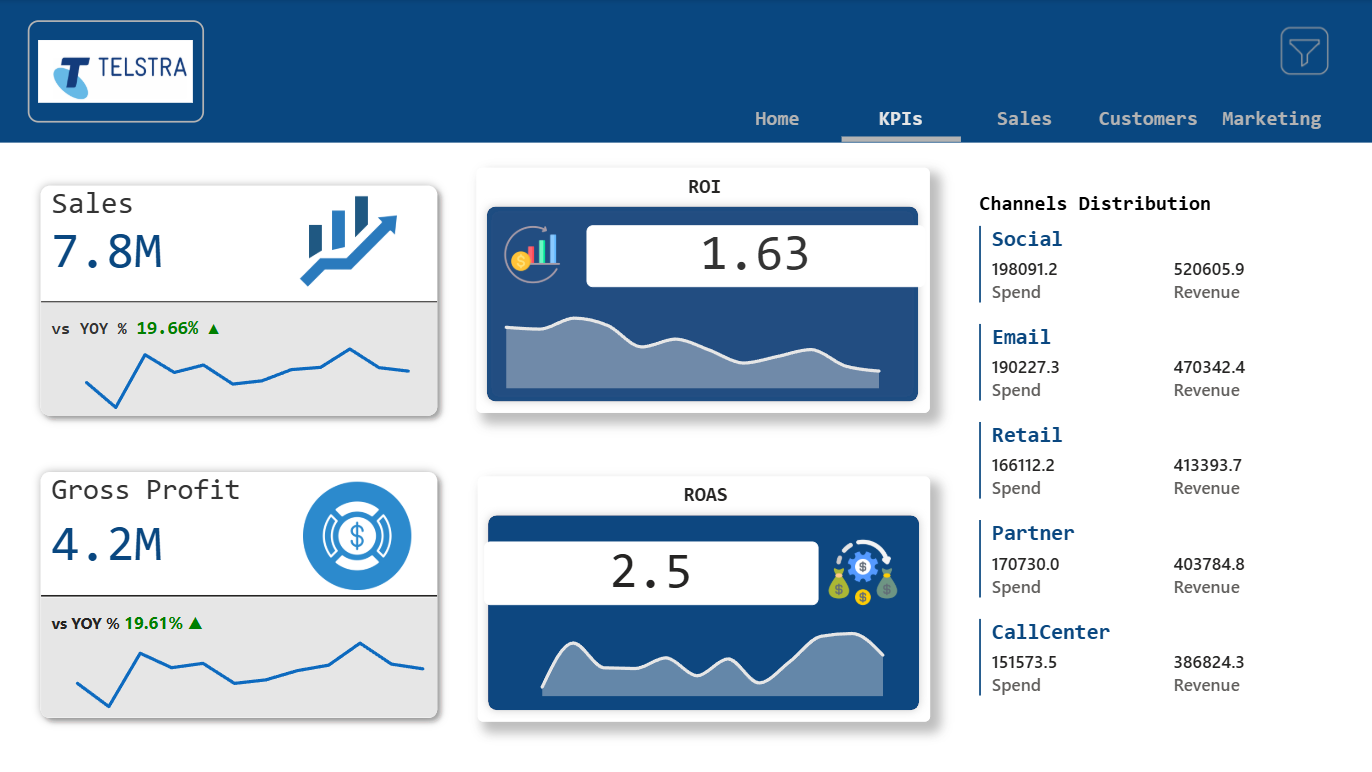

This screenshot's page, from the dashboard's own definition file:
{"tool":"powerbi","page":{"name":"KPIs","canvas":[1280,720],"ordinal":1},"visuals":[{"type":"shape","box":[-2,0,1282.4,133.9],"z":0,"group":"g8"},{"type":"group","id":"g1","title":"Group 2","box":[444.9,156.8,421.3,228],"z":0,"group":"g6"},{"type":"group","id":"g2","title":"Group 3","box":[444.9,156.8,421.3,228],"z":0,"group":"g1"},{"type":"shape","title":"ROI","box":[444.9,156.8,421.3,228],"z":0,"group":"g2"},{"type":"group","id":"g3","title":"Group 5","box":[26.5,161.7,393.3,238.9],"z":0,"group":"g11"},{"type":"cardVisual","fields":{"Data":["Meaasurments.Sales"]},"box":[26.5,161.7,393.3,238.9],"z":0,"group":"g3"},{"type":"multiRowCard","title":"Channels Distribution","fields":{"Values":["Fact_Marketing_final.channel","Sum(Fact_Marketing_final.spend_usd)","Sum(Fact_Marketing_final.marketing_attributed_revenue)"]},"box":[907.2,178.6,359.5,500.7],"z":0},{"type":"cardVisual","fields":{"Data":["Meaasurments.Profit"]},"box":[26.5,428.3,393.3,253.4],"z":0,"group":"g7"},{"type":"group","id":"g4","title":"Group 2","box":[445.2,444,421,228],"z":0,"group":"g9"},{"type":"group","id":"g5","title":"Group 3","box":[445.2,444,421,228],"z":0,"group":"g4"},{"type":"shape","title":"ROAS","box":[445.2,444,421,228],"z":0,"group":"g5"},{"type":"pageNavigator","box":[669.2,84.6,573.3,49],"z":1000,"group":"g8"},{"type":"group","id":"g6","title":"Group 4","box":[430.7,156.8,435.5,228],"z":1000},{"type":"card","fields":{"Values":["Meaasurments.ROI"]},"box":[547.6,210.1,314.9,57.9],"z":1000,"group":"g2"},{"type":"lineChart","fields":{"Category":["Dim_Date_final.month"],"Y":["Meaasurments.ROI"]},"box":[430.7,276,403.4,90.6],"z":1000,"group":"g6"},{"type":"lineChart","fields":{"Y":["Meaasurments.Sales"],"Category":["Dim_Date_final.month","Dim_Date_final.year"]},"box":[44,305.4,346.6,77.9],"z":1000,"group":"g3"},{"type":"group","id":"g7","title":"Group 5","box":[26.5,428.3,393.3,253.4],"z":1000,"group":"g12"},{"type":"card","fields":{"Values":["Meaasurments.ROAS"]},"box":[450.5,504.6,311.3,59.1],"z":1000,"group":"g5"},{"type":"lineChart","fields":{"Category":["Dim_Date_final.month"],"Y":["Meaasurments.ROAS"]},"box":[461.8,568.5,375.8,85.1],"z":1000,"group":"g9"},{"type":"lineChart","fields":{"Category":["Dim_Date_final.month","Dim_Date_final.year"],"Y":["Meaasurments.Gross Profit"]},"box":[33.1,579.1,370.6,84.2],"z":1000,"group":"g7"},{"type":"group","id":"g8","title":"Group 1","box":[-2,0,1282.4,133.9],"z":2000},{"type":"image","box":[26.5,19.3,164.1,95.3],"z":3000},{"type":"group","id":"g9","title":"Group 6","box":[445.2,444,421,228],"z":4000,"group":"g10"},{"type":"actionButton","box":[1186,19.8,57,57],"z":5000},{"type":"image","box":[464.5,206.3,63.9,63.9],"z":6000},{"type":"group","id":"g10","title":"Group 7","box":[445.2,444,421,228],"z":7000},{"type":"group","id":"g11","title":"Group 8","box":[26.5,161.7,393.3,238.9],"z":8000},{"type":"image","box":[244.6,169.9,159.3,111],"z":8000,"group":"g11"},{"type":"group","id":"g12","title":"Group 9","box":[26.5,428.3,393.3,253.4],"z":9000},{"type":"image","box":[262.7,444.1,141.2,110.8],"z":9000,"group":"g12"},{"type":"image","box":[761.3,495.8,84.5,76],"z":10000}]}

Visuals, with their boxes in screenshot pixels (x1, y1, x2, y2), scaled from the page's 1280x720 canvas onto the 1372x772 screenshot:
shape: [0, 0, 1371, 144]
"Group 2" group: [477, 168, 928, 413]
"Group 3" group: [477, 168, 928, 413]
"ROI" shape: [477, 168, 928, 413]
"Group 5" group: [28, 173, 450, 430]
cardVisual - Meaasurments.Sales: [28, 173, 450, 430]
"Channels Distribution" multiRowCard: [972, 191, 1358, 728]
cardVisual - Meaasurments.Profit: [28, 459, 450, 731]
"Group 2" group: [477, 476, 928, 721]
"Group 3" group: [477, 476, 928, 721]
"ROAS" shape: [477, 476, 928, 721]
pageNavigator: [717, 91, 1332, 143]
"Group 4" group: [462, 168, 928, 413]
card - Meaasurments.ROI: [587, 225, 924, 287]
lineChart - Dim_Date_final.month x Meaasurments.ROI: [462, 296, 894, 393]
lineChart - Meaasurments.Sales x Dim_Date_final.month: [47, 327, 419, 411]
"Group 5" group: [28, 459, 450, 731]
card - Meaasurments.ROAS: [483, 541, 817, 604]
lineChart - Dim_Date_final.month x Meaasurments.ROAS: [495, 610, 898, 701]
lineChart - Dim_Date_final.month x Dim_Date_final.year: [35, 621, 433, 711]
"Group 1" group: [0, 0, 1371, 144]
image: [28, 21, 204, 123]
"Group 6" group: [477, 476, 928, 721]
actionButton: [1271, 21, 1332, 82]
image: [498, 221, 566, 290]
"Group 7" group: [477, 476, 928, 721]
"Group 8" group: [28, 173, 450, 430]
image: [262, 182, 433, 301]
"Group 9" group: [28, 459, 450, 731]
image: [282, 476, 433, 595]
image: [816, 532, 907, 613]
